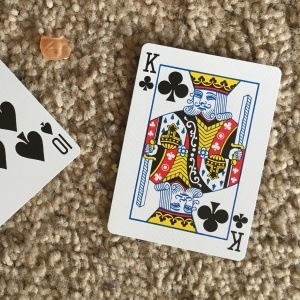card: (104, 41, 282, 259)
